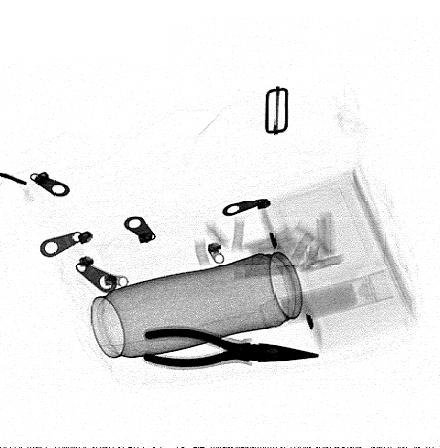Pliers: (142, 327, 318, 369)
